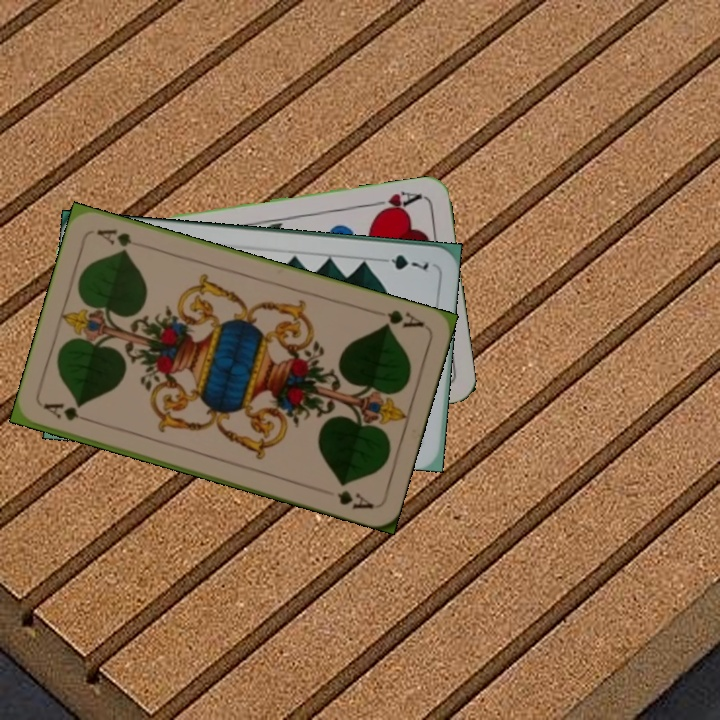G7: (374, 251, 431, 273)
GA: (39, 399, 97, 426), (378, 306, 427, 331)
HA: (365, 187, 424, 217)
